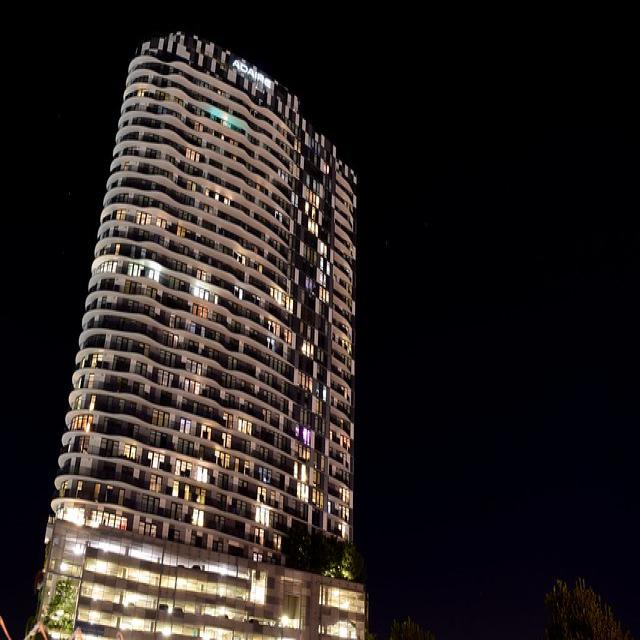building: (14, 24, 370, 640)
